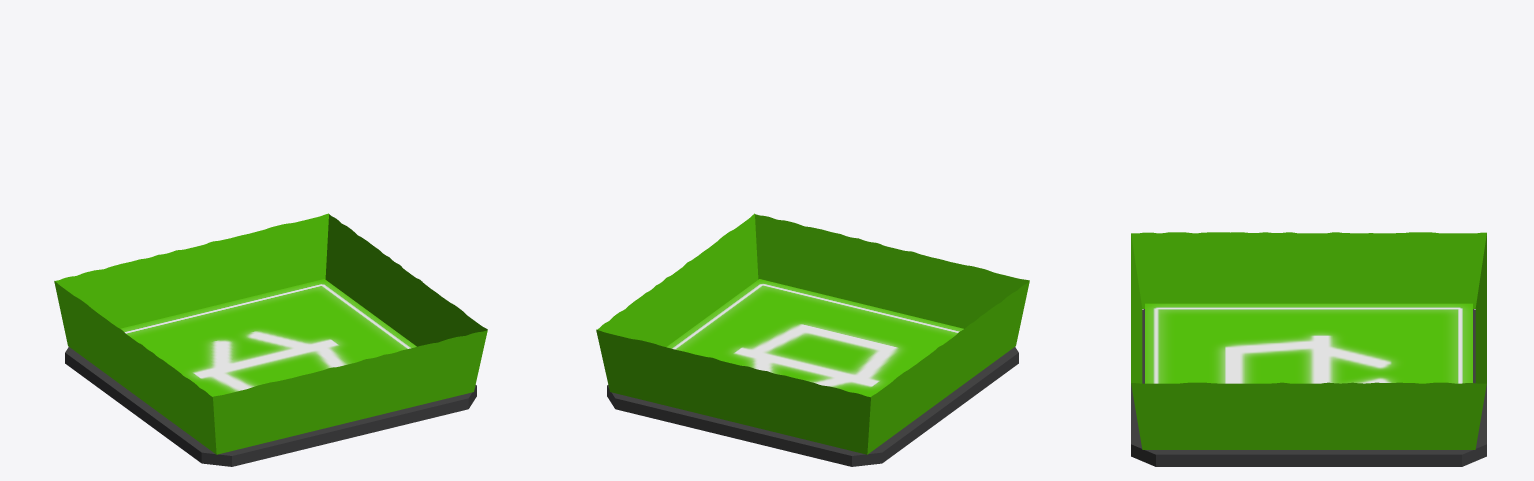
The model's file is Merchant_marker.FBX.
3 views of the same model, side by side, from view 1: azimuth 30°, elevation 25°; view 2: azimuth 150°, elevation 25°; view 3: azimuth 270°, elevation 25° (orthographic). The views are drawn at different scales.
Visible parts, largest first — view 1: Box001; view 2: Box001; view 3: Box001.
Boxes of the visible parts, x1,y1,x2,y2 form: Box001: [54, 213, 487, 466]; Box001: [596, 213, 1029, 466]; Box001: [1131, 232, 1486, 466].
Bounding box in the file's own units: 1.18 × 0.8943 × 1.18.
Materials: 2 (2 with a texture image).
